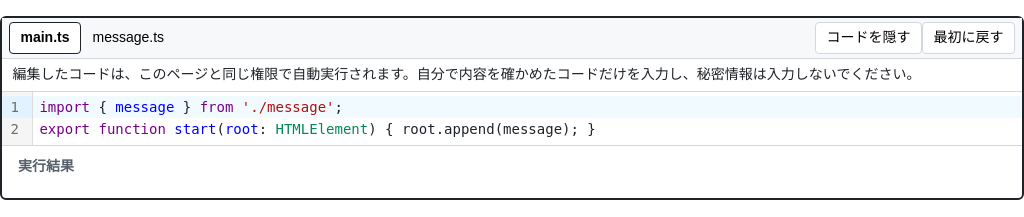
Test: ファイルはタブで切り替えられ、コードを書き換えると実行結果が変わる
Click the tab "message.ts" at x=128, y=38, box [81, 22, 176, 54]
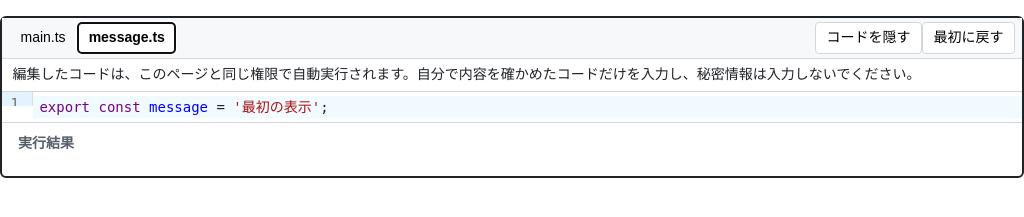
Replace the text in the field labelled "export const message = '最初の表示';" with "export const message = '書き換えた表示';" at x=528, y=107, box [33, 92, 1022, 122]
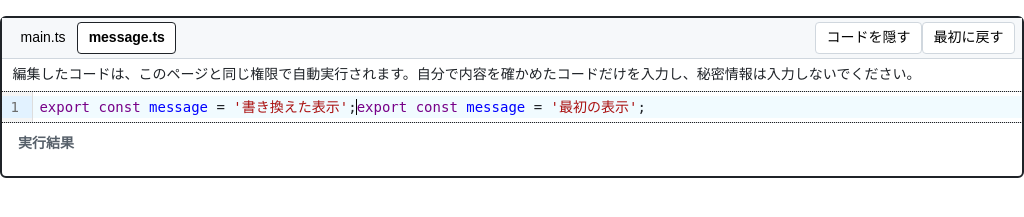
Expected: the text box "'書き換えた表示'" is shown, [233, 99, 348, 115]
